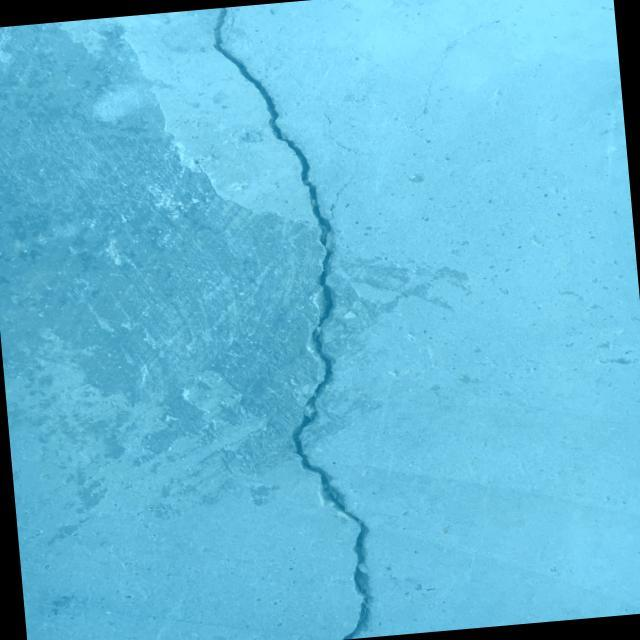crack: (209, 0, 398, 640), (16, 495, 206, 544), (400, 28, 484, 128), (288, 68, 331, 130), (326, 131, 356, 156)
